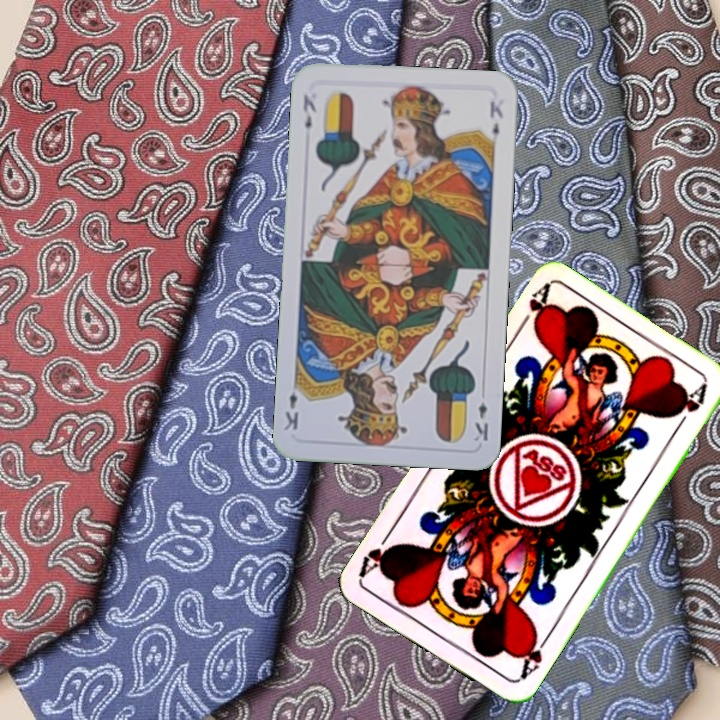EK: (470, 398, 491, 444), (299, 90, 319, 132)
HA: (513, 281, 555, 338), (516, 628, 554, 683)
